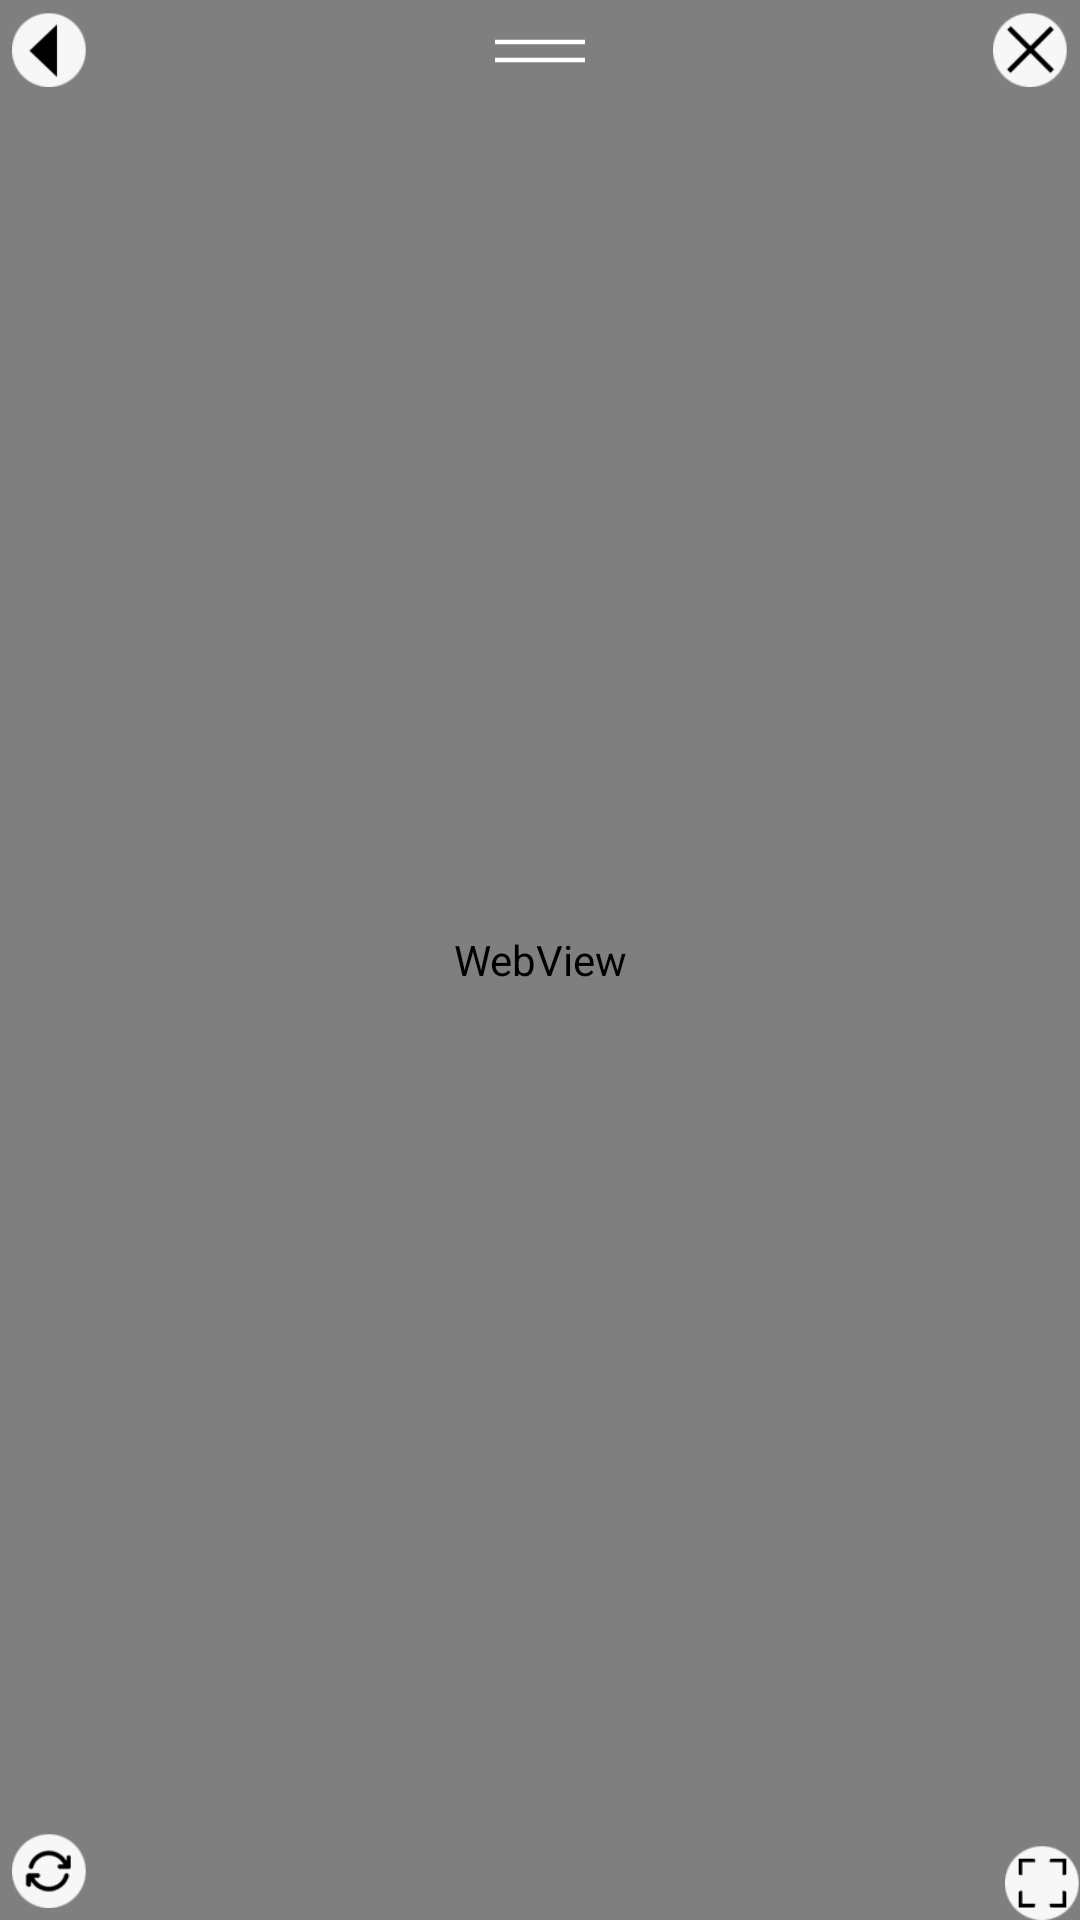

Screen size 1080 x 1920. Icon name, then its box in pixels as [x1,y1,x2,y2]:
close: [993,13,1067,87]
拖曳: [495,39,585,63]
縮放: [1005,1846,1079,1920]
重新連線: [12,1834,86,1908]
